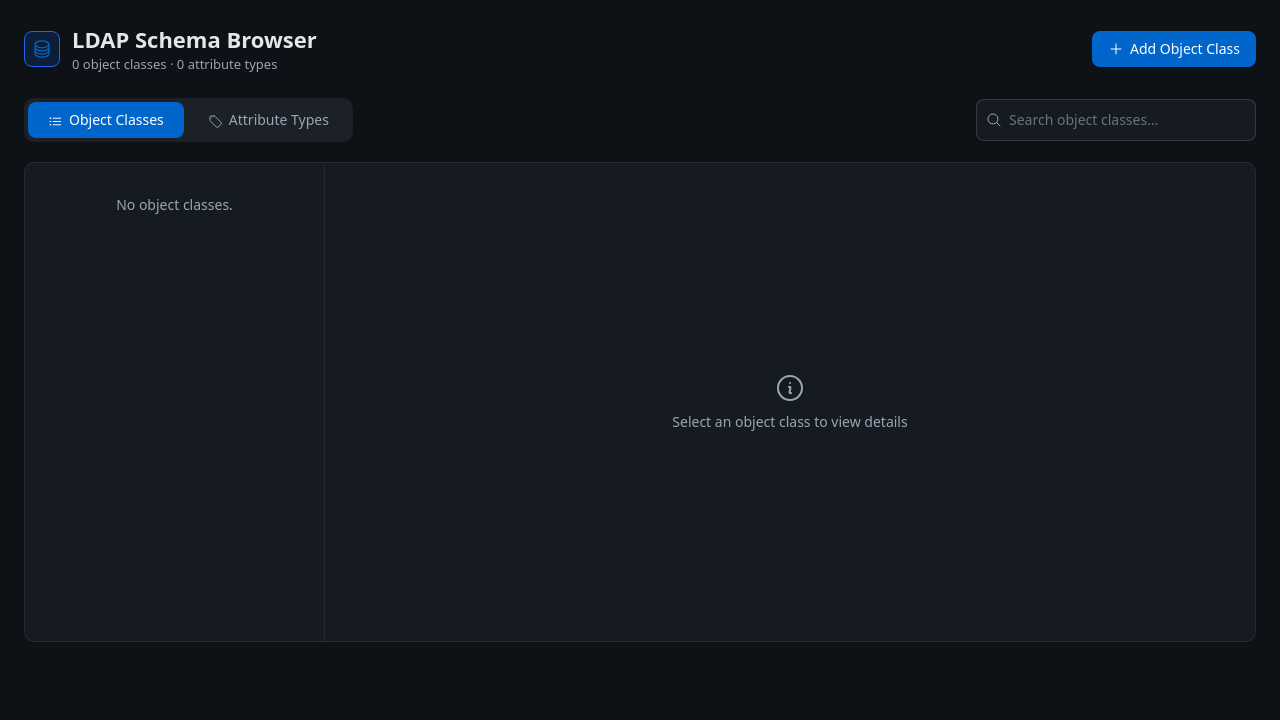
LDAPSchemaBrowserView › clicking "Attribute Types" tab switches to attribute section
Click the button "Attribute Types" at (268, 120), box [188,102,349,138]
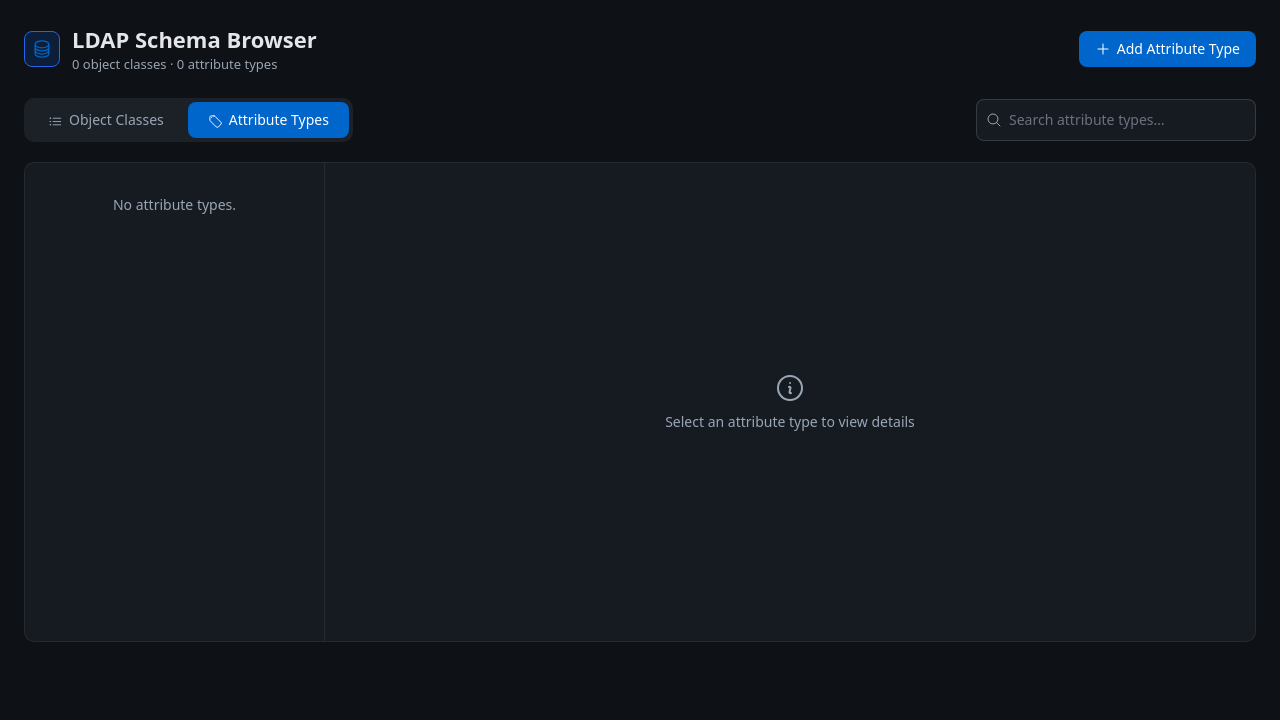
Now the field with placeholder "Search attribute types…" is shown, box [976,99,1256,141]
